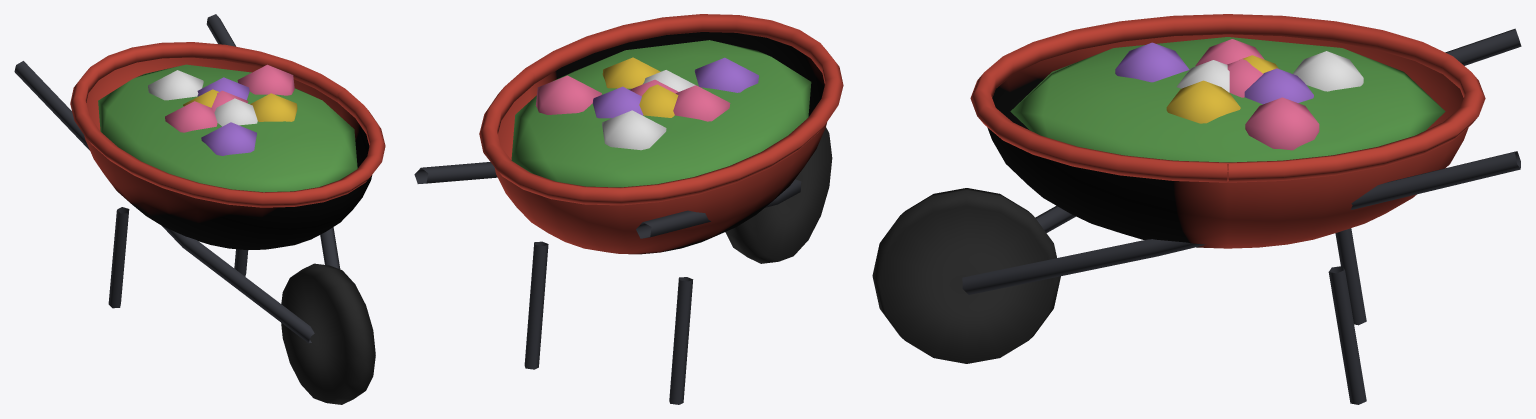
The model's file is furn_od_wheelbarrow.glb.
3 views of the same model, side by side, from view 1: azimuth 30°, elevation 25°; view 2: azimuth 150°, elevation 25°; view 3: azimuth 270°, elevation 25° (orthographic). The views are drawn at different scales.
Visible parts, largest first — view 1: furn_od_wheelbarrow_main; view 2: furn_od_wheelbarrow_main; view 3: furn_od_wheelbarrow_main.
Part boxes in pixels (box(x1,y1,x2,y2)): furn_od_wheelbarrow_main: box(14, 14, 385, 404); furn_od_wheelbarrow_main: box(414, 14, 843, 404); furn_od_wheelbarrow_main: box(872, 14, 1521, 404).
Bounding box in the file's own units: 0.51 × 0.4617 × 0.8945.
